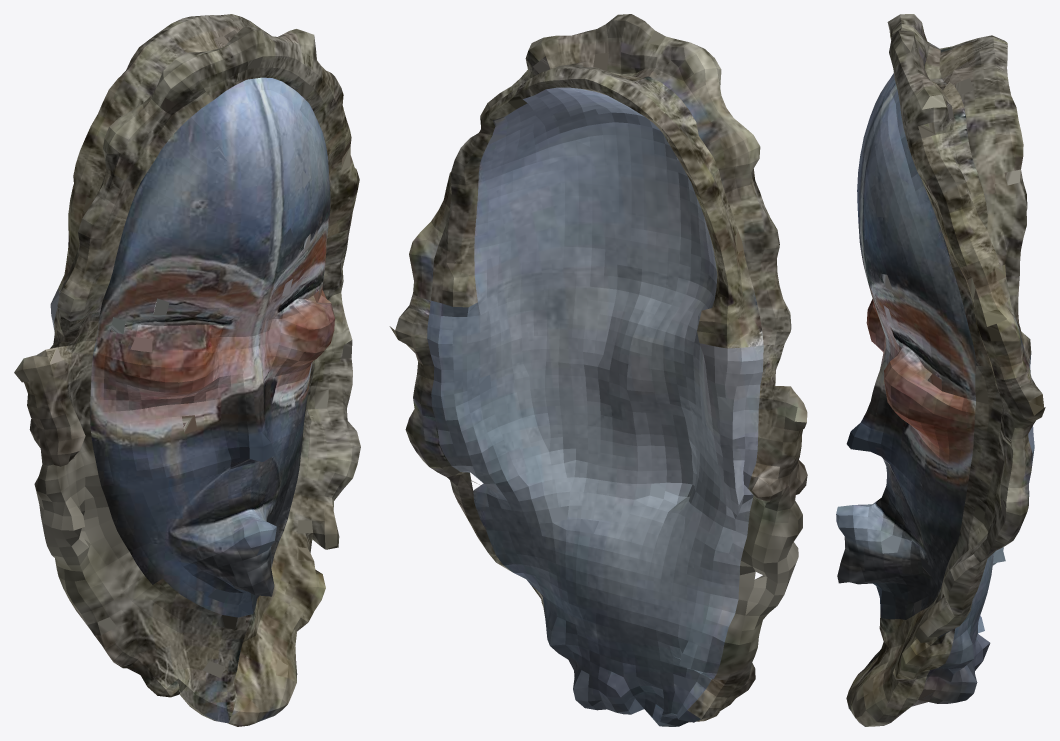
The model's file is head_Mask.glb.
The picture shows the model from 3 angles, left to right: view 1: azimuth 30°, elevation 25°; view 2: azimuth 150°, elevation 25°; view 3: azimuth 270°, elevation 25°; orthographic projection. The views are drawn at different scales.
Parts seen in each view (by area): view 1: Number_instant_meshes4_Number_instant_meshes4_Material.022; view 2: Number_instant_meshes4_Number_instant_meshes4_Material.022; view 3: Number_instant_meshes4_Number_instant_meshes4_Material.022.
Boxes of the visible parts, x1,y1,x2,y2 form: Number_instant_meshes4_Number_instant_meshes4_Material.022: (14,14,360,726); Number_instant_meshes4_Number_instant_meshes4_Material.022: (389,14,807,726); Number_instant_meshes4_Number_instant_meshes4_Material.022: (836,14,1045,726).
Size of the model in its own units: 0.4625 by 0.8188 by 0.2239.
Materials: 1 (1 with a texture image).
